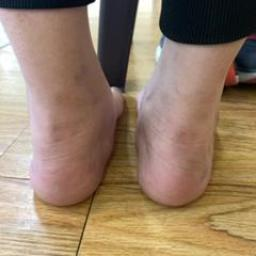Back View -Both Feet-: (8, 40, 246, 225)
